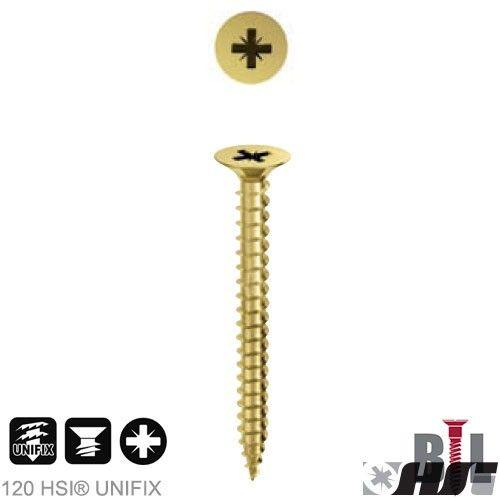Tornillo: (211, 140, 294, 482), (211, 9, 290, 84)
